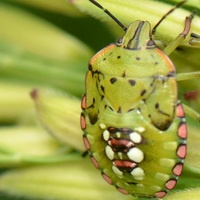insect: (107, 1, 166, 20)
